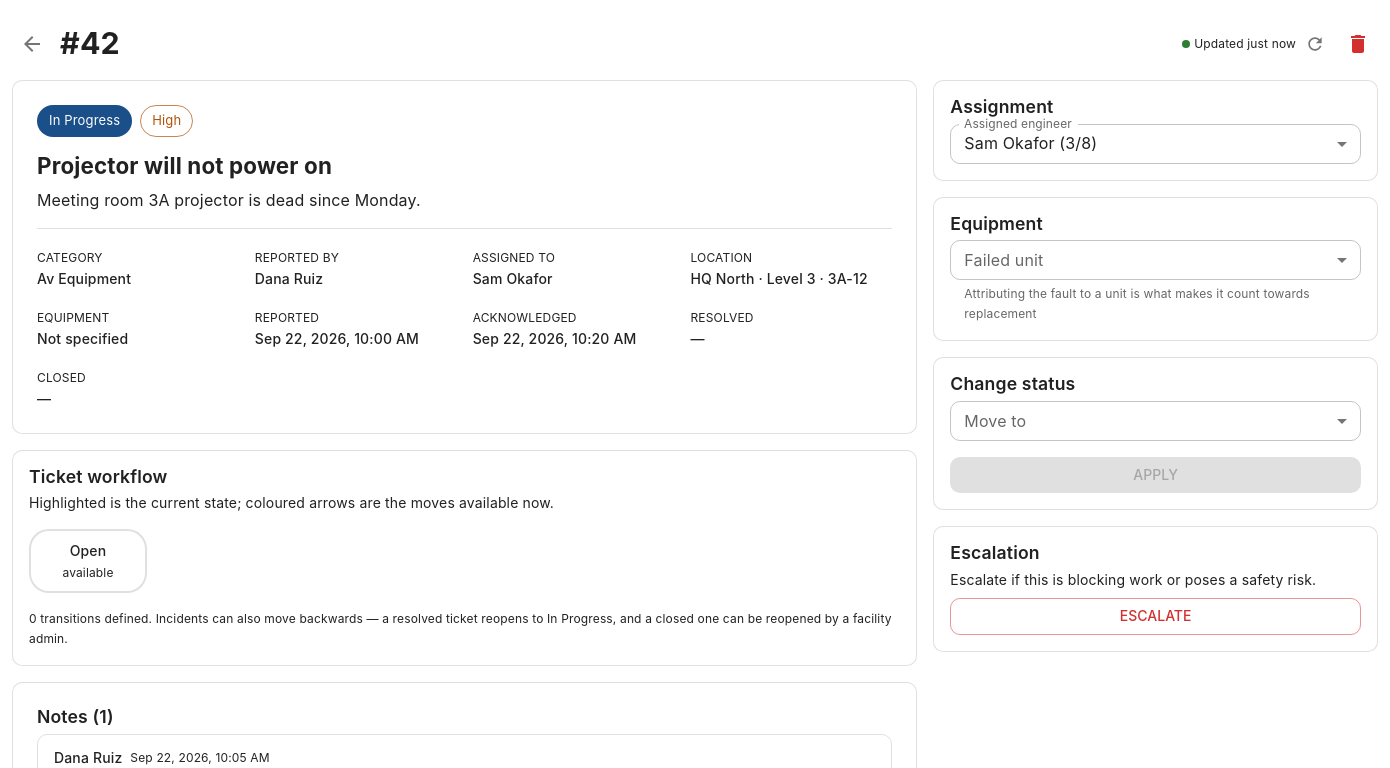
Test case: driving the workflow › demands a reason before blocking
Expected: the heading "Change status" is shown, [950, 373, 1075, 394]
Click the dropdown next to "Move to" at (1156, 421), box [950, 401, 1361, 441]
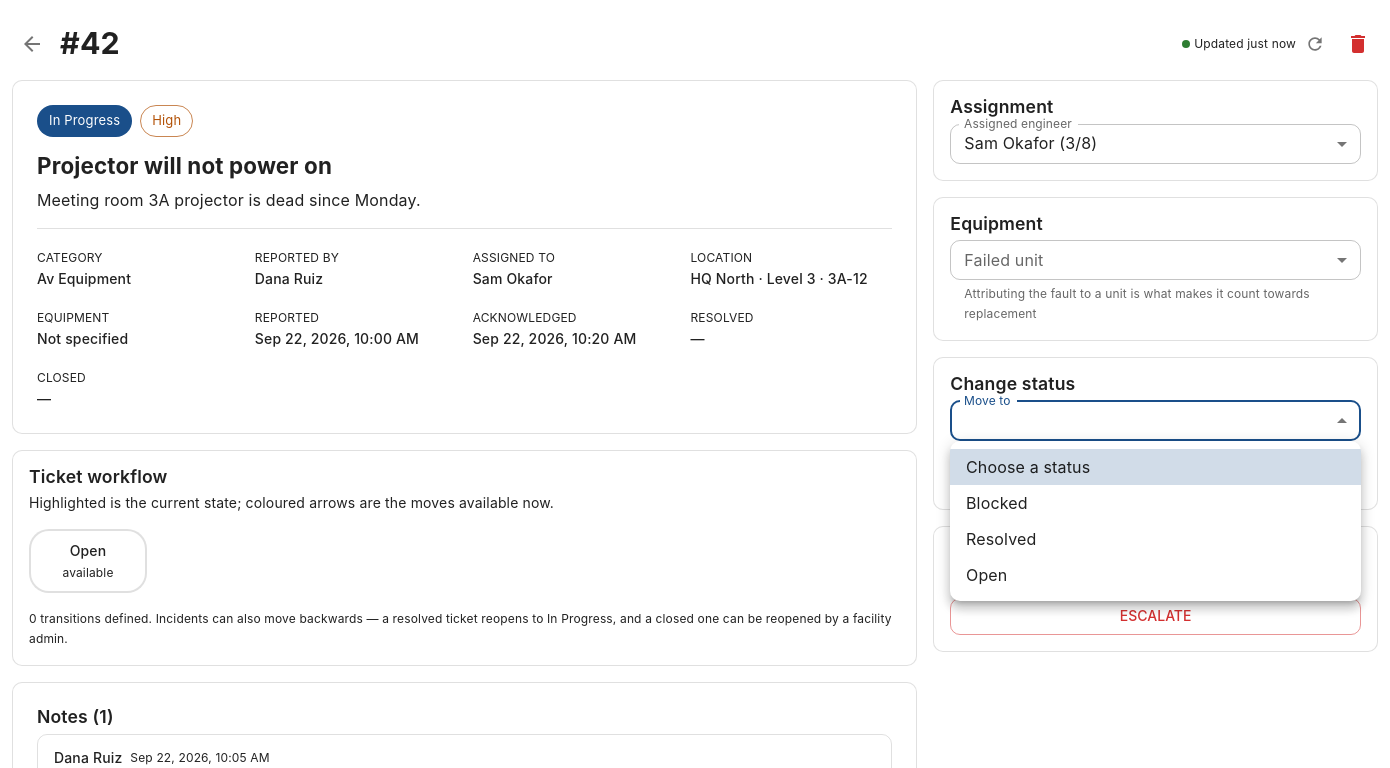
Click the option "Blocked" at (997, 503), box [966, 493, 1028, 513]
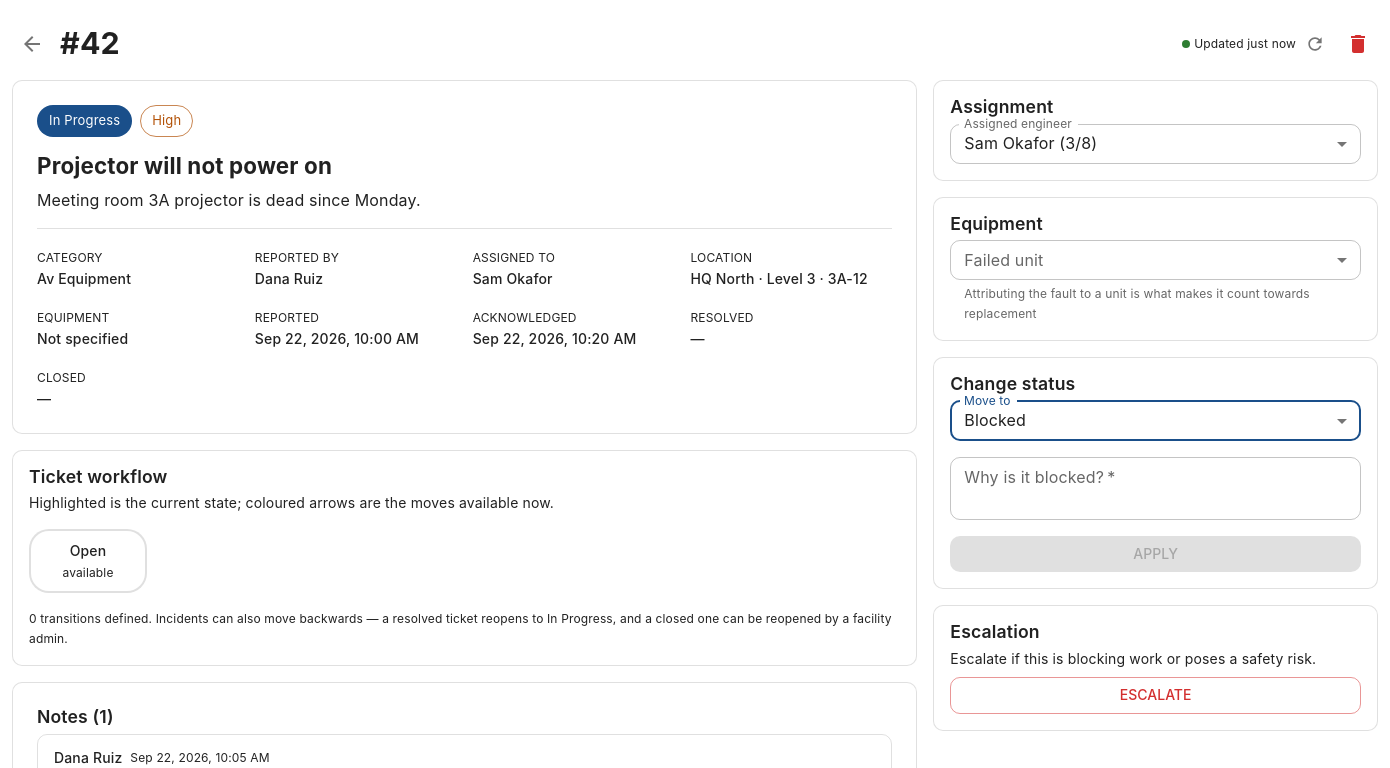
Expected: the button "Apply" is disabled, [950, 536, 1361, 572]
Type "Lamp on back-order" into the text box labelled "Why is it blocked? *" at (1156, 488), box [964, 465, 1347, 511]
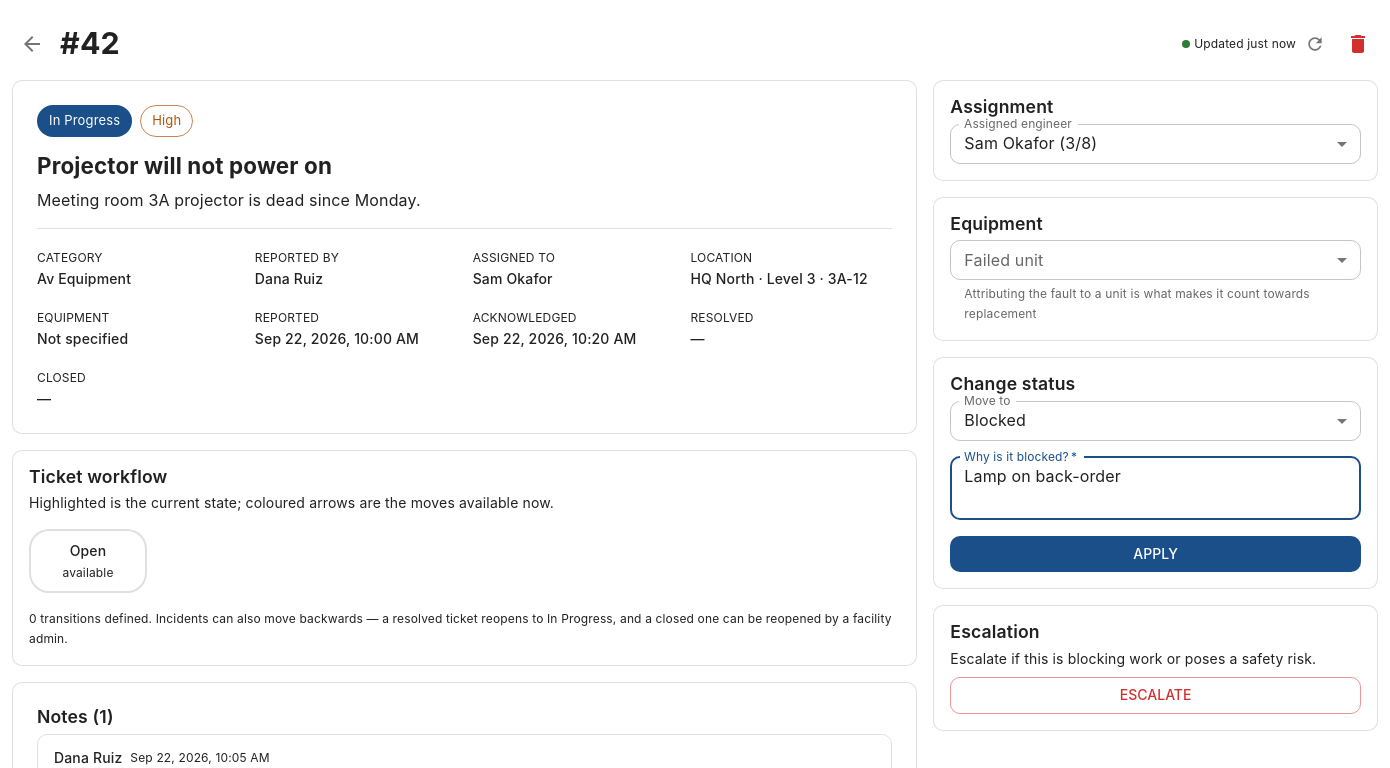
Expected: the button "Apply" is enabled, [950, 536, 1361, 572]
